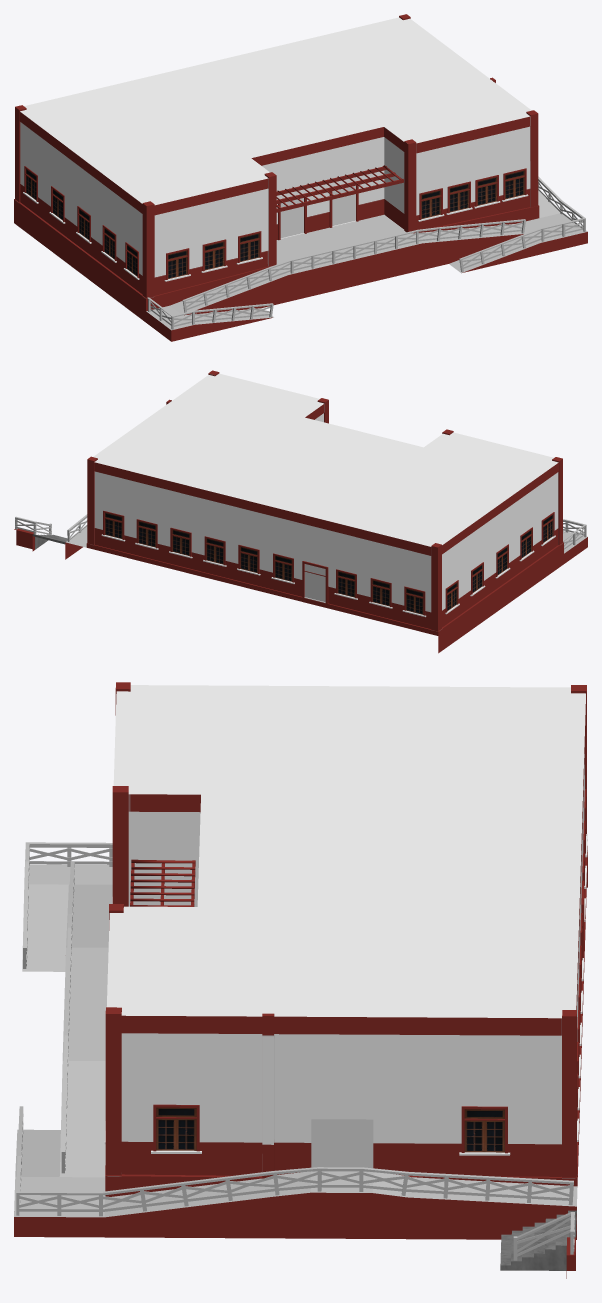
The model's file is EscolaMunicipal.fbx.
3 renders of one model, top to bottom at view 1: azimuth 30°, elevation 25°; view 2: azimuth 150°, elevation 25°; view 3: azimuth 270°, elevation 25°, orthographic. The views are drawn at different scales.
Visible parts, largest first — view 1: predio, piso, cerca; view 2: predio, cerca, piso; view 3: predio, piso, cerca.
Part boxes in pixels (x1=…): predio: x1=14, y1=14, x2=587, y2=341; piso: x1=146, y1=189, x2=587, y2=330; cerca: x1=147, y1=176, x2=585, y2=329; predio: x1=14, y1=370, x2=587, y2=653; cerca: x1=15, y1=514, x2=586, y2=552; piso: x1=66, y1=526, x2=587, y2=553; predio: x1=14, y1=682, x2=587, y2=1278; piso: x1=14, y1=864, x2=577, y2=1217; cerca: x1=16, y1=842, x2=574, y2=1260.
Size of the model in its own units: 3253 by 762 by 1952.
